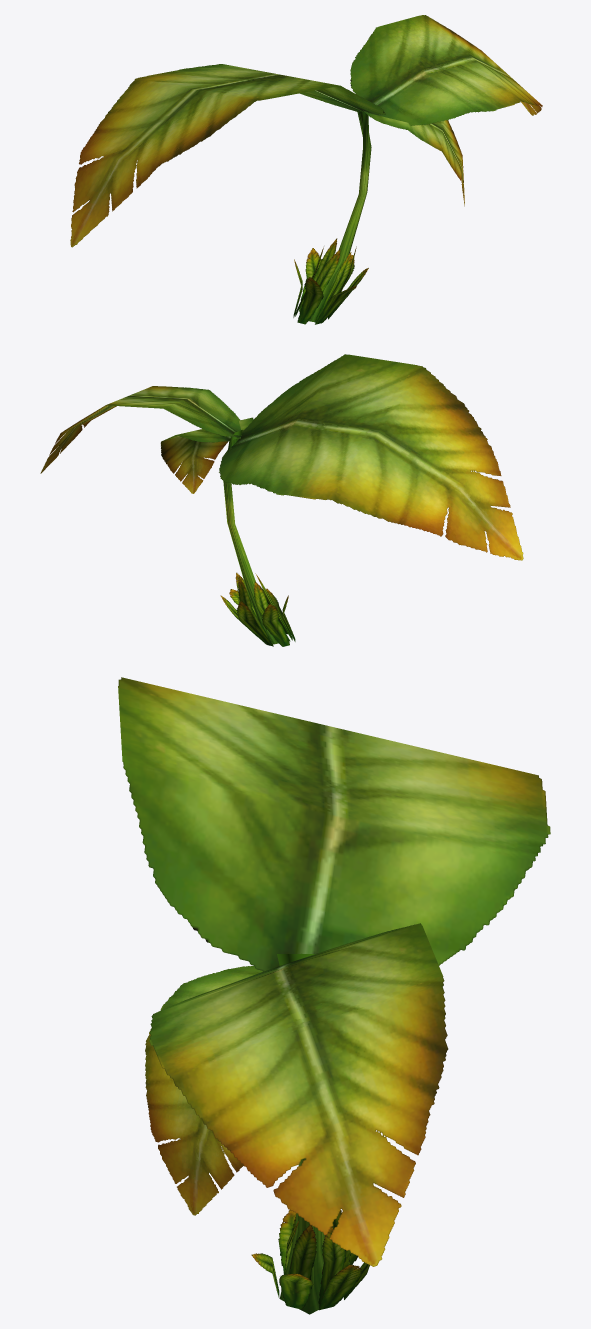
File: obj_macoprgr06.glb
3 renders of one model, top to bottom at view 1: azimuth 30°, elevation 25°; view 2: azimuth 150°, elevation 25°; view 3: azimuth 270°, elevation 25°, orthographic. The views are drawn at different scales.
Visible parts, largest first — view 1: part_0; view 2: part_0; view 3: part_0.
Boxes of the visible parts, x1=… form: part_0: x1=70, y1=15, x2=542, y2=324; part_0: x1=40, y1=354, x2=523, y2=646; part_0: x1=118, y1=677, x2=550, y2=1314.
Bounding box in the file's own units: 4.96 × 2.65 × 2.34.
1 material, 1 textured.
